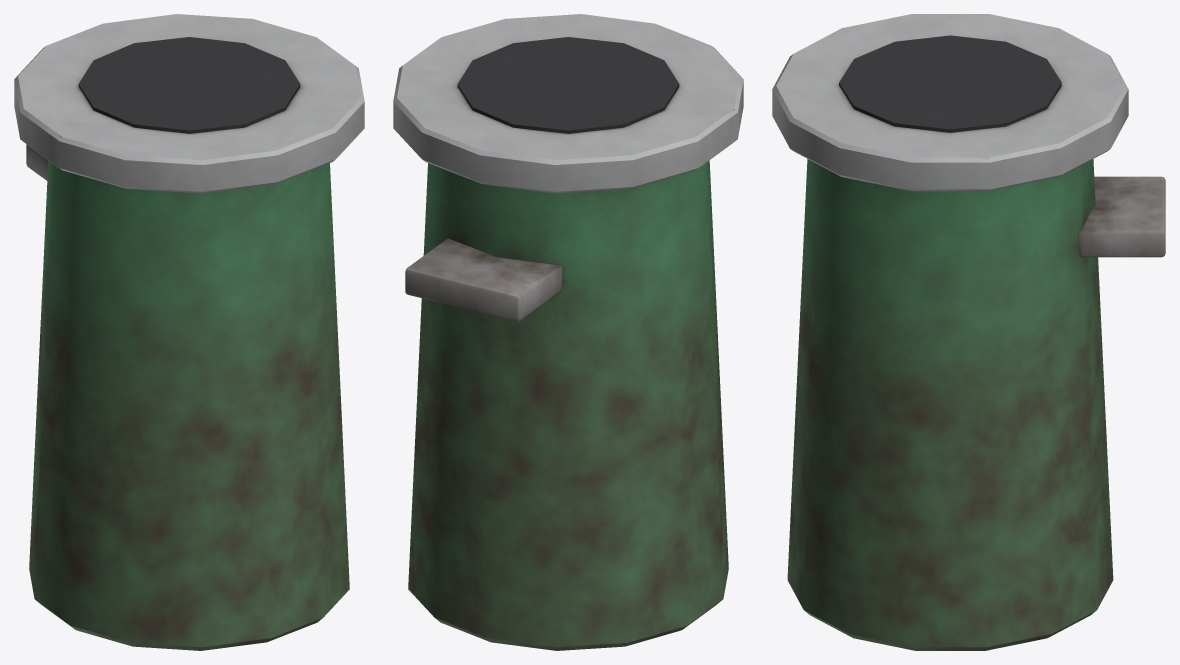
The model's file is g67_pz_bin.glb.
3 views of the same model, side by side, from view 1: azimuth 30°, elevation 25°; view 2: azimuth 150°, elevation 25°; view 3: azimuth 270°, elevation 25° (orthographic).
Parts seen in each view (by area): view 1: g67_pz_bin; view 2: g67_pz_bin; view 3: g67_pz_bin.
Part boxes in pixels (x1=…): g67_pz_bin: x1=14, y1=14, x2=364, y2=650; g67_pz_bin: x1=393, y1=14, x2=743, y2=650; g67_pz_bin: x1=772, y1=14, x2=1165, y2=650.
Bounding box in the file's own units: 0.468 × 0.75 × 0.53.
1 material, 1 textured.
